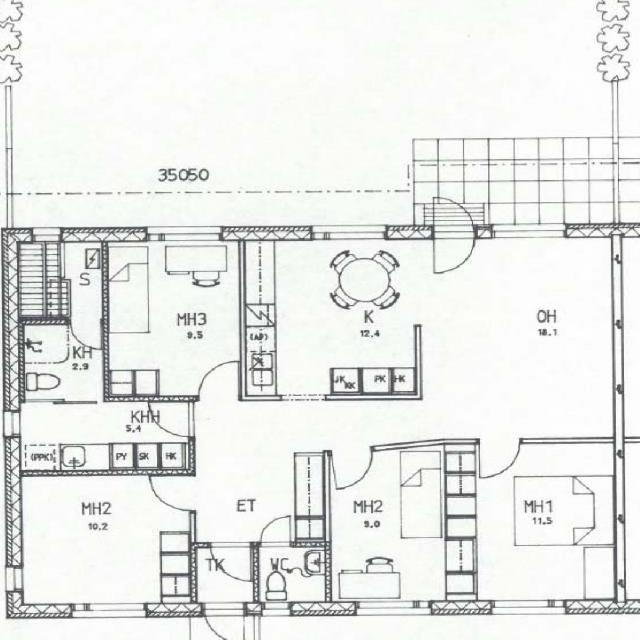door: (434, 226, 474, 275), (434, 190, 474, 239), (331, 447, 375, 489), (198, 363, 238, 402), (480, 439, 519, 478), (211, 542, 249, 582), (152, 477, 195, 510), (152, 404, 196, 436), (204, 604, 243, 640), (71, 318, 101, 351), (261, 518, 289, 548)
